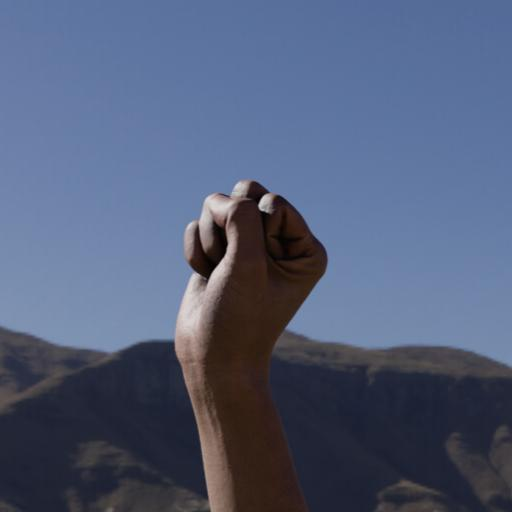S: (153, 168, 336, 405)
